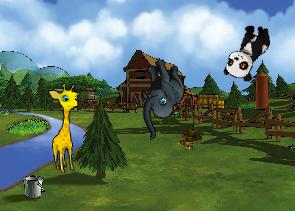elephant: (120, 53, 200, 140)
giraffe: (47, 82, 85, 174)
panda: (220, 18, 275, 85)
